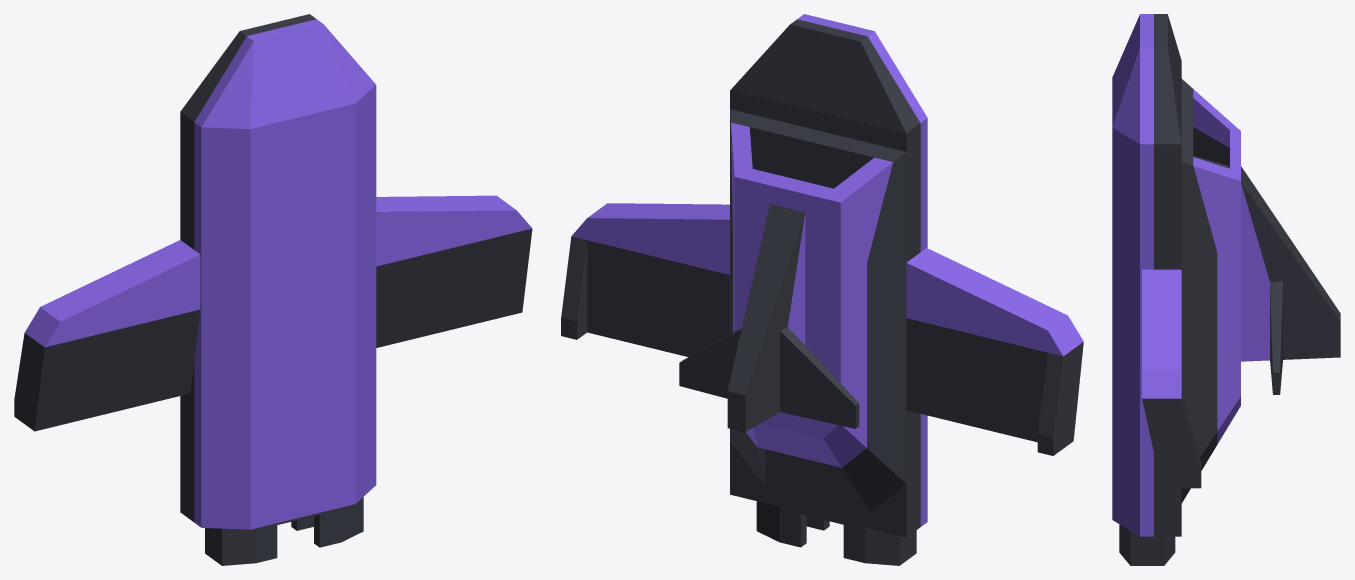
File: ship.obj
3 renders of one model, left to right at view 1: azimuth 30°, elevation 25°; view 2: azimuth 150°, elevation 25°; view 3: azimuth 270°, elevation 25°, orthographic. The views are drawn at different scales.
Visible parts, largest first — view 1: mergedBlocks; view 2: mergedBlocks; view 3: mergedBlocks.
Boxes of the visible parts, <box> form: mergedBlocks: <box>14,14,532,565</box>; mergedBlocks: <box>561,14,1083,565</box>; mergedBlocks: <box>1112,14,1340,565</box>.
Bounding box in the file's own units: 2.79 × 2.8 × 1.15.
